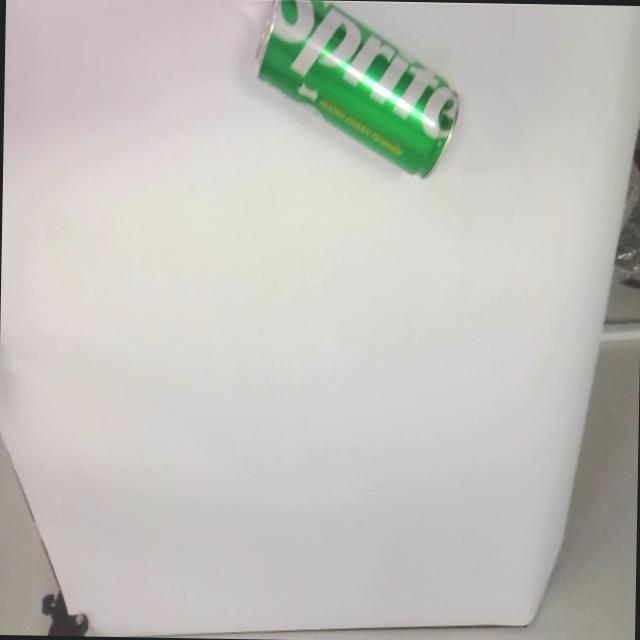debris: (252, 0, 461, 180)
